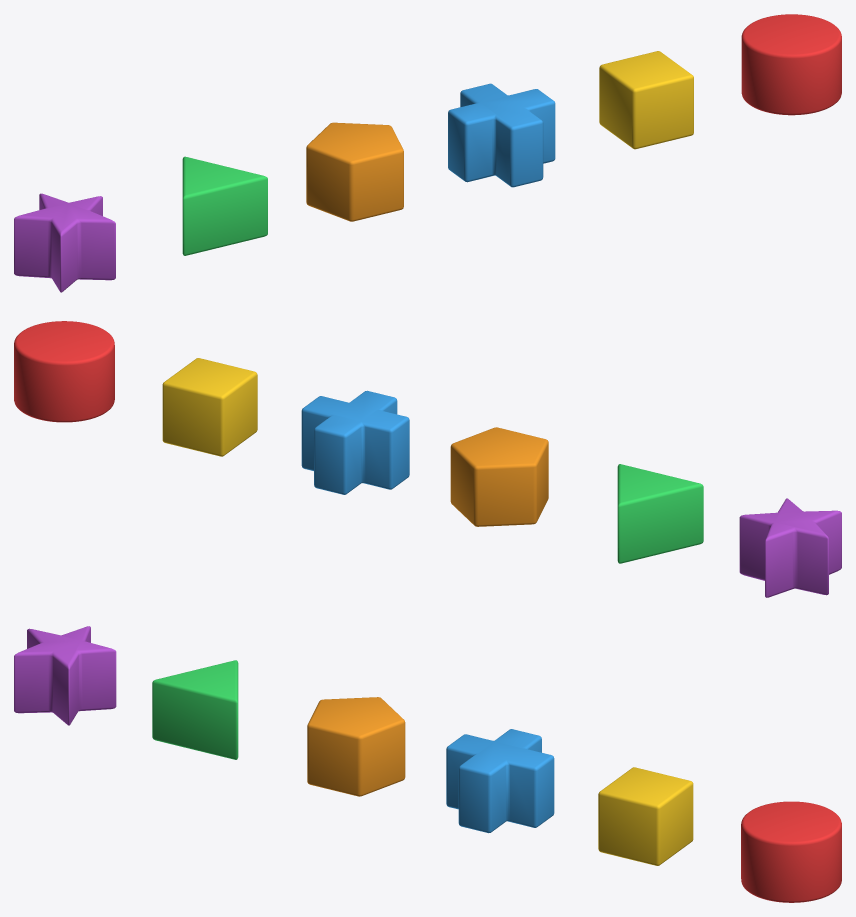
The model's file is Toy_Cube_Shapes.fbx.
3 renders of one model, top to bottom at view 1: azimuth 30°, elevation 25°; view 2: azimuth 150°, elevation 25°; view 3: azimuth 330°, elevation 25°, orthographic.
Visible parts, largest first — view 1: Block_Cross, Block_Circle, Block_Pentagon, Block_Star, Block_Square, Block_Triangle; view 2: Block_Cross, Block_Circle, Block_Pentagon, Block_Star, Block_Square, Block_Triangle; view 3: Block_Cross, Block_Circle, Block_Pentagon, Block_Star, Block_Square, Block_Triangle.
Part boxes in pixels (x1=…): Block_Cross: x1=448, y1=83, x2=555, y2=187; Block_Circle: x1=741, y1=14, x2=841, y2=115; Block_Pentagon: x1=306, y1=122, x2=403, y2=221; Block_Star: x1=14, y1=193, x2=115, y2=292; Block_Square: x1=599, y1=51, x2=693, y2=149; Block_Triangle: x1=182, y1=156, x2=267, y2=255; Block_Cross: x1=301, y1=390, x2=409, y2=494; Block_Circle: x1=14, y1=321, x2=114, y2=422; Block_Pentagon: x1=450, y1=427, x2=548, y2=526; Block_Star: x1=739, y1=498, x2=841, y2=597; Block_Square: x1=162, y1=358, x2=257, y2=456; Block_Triangle: x1=617, y1=464, x2=703, y2=563; Block_Cross: x1=446, y1=729, x2=554, y2=833; Block_Circle: x1=741, y1=801, x2=841, y2=902; Block_Pentagon: x1=307, y1=697, x2=405, y2=796; Block_Star: x1=14, y1=626, x2=116, y2=725; Block_Square: x1=598, y1=767, x2=693, y2=865; Block_Triangle: x1=152, y1=660, x2=238, y2=759.
Bounding box in the file's own units: 841 × 60 × 97.5.
